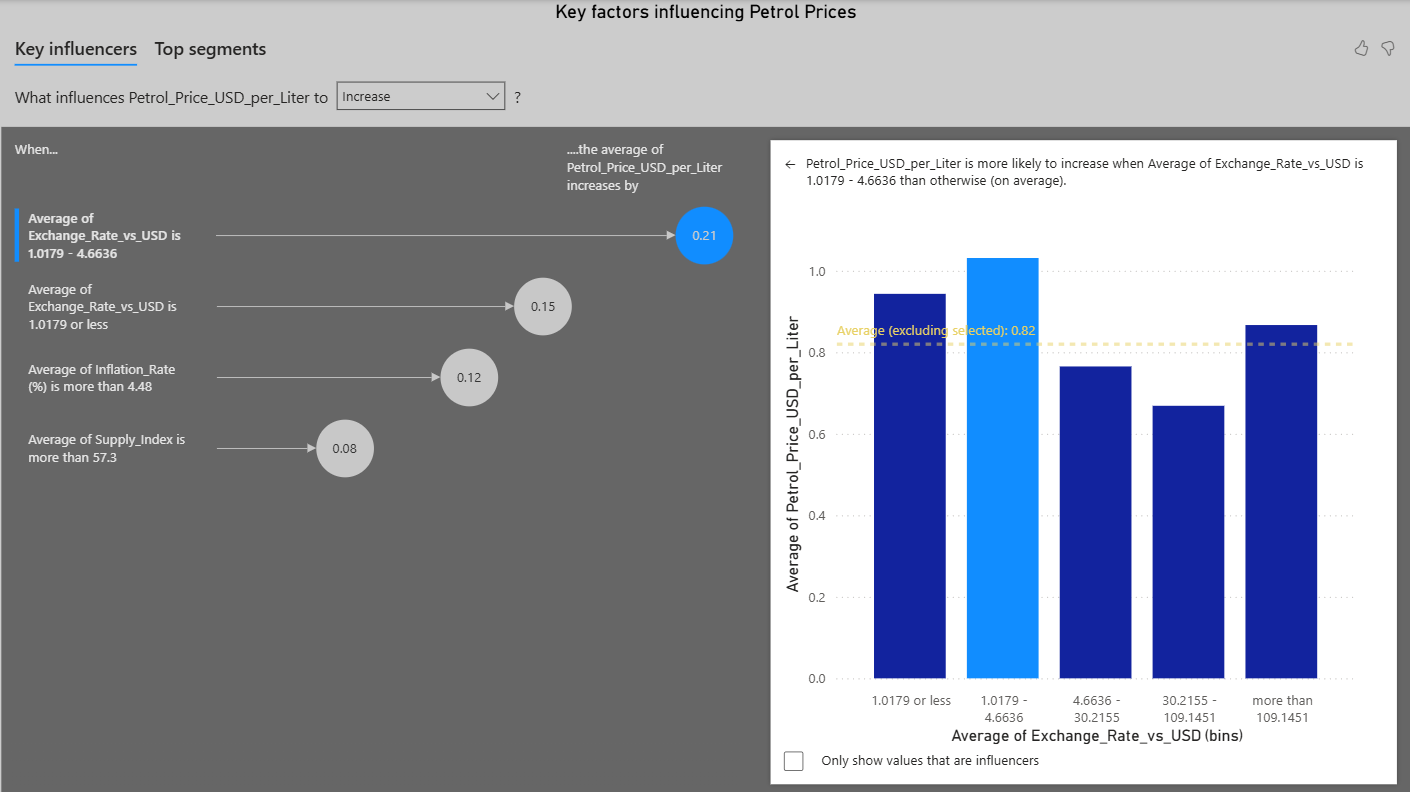

This screenshot's page, from the dashboard's own definition file:
{"tool":"powerbi","page":{"name":"Page 5","canvas":[1280,720],"ordinal":4},"visuals":[{"type":"keyDriversVisual","title":"Key factors influencing Petrol Prices","fields":{"Target":["price_metrics_table_v2.Petrol_Price_USD_per_Liter"],"ExplainBy":["Avg(price_metrics_table_v2.Currency_Devaluation (%))","Avg(price_metrics_table_v2.Exchange_Rate_vs_USD)","Avg(price_metrics_table_v2.GDP_Growth (%))","Avg(price_metrics_table_v2.Inflation_Rate (%))","Avg(price_metrics_table_v2.Supply_Index)","Avg(price_metrics_table_v2.Demand_Index)"]},"box":[0,0,1280,720.3],"z":0}]}

Visuals, with their boxes in screenshot pixels (x1, y1, x2, y2), scaled from the page's 1280x720 canvas onto the 1410x792 screenshot:
"Key factors influencing Petrol Prices" keyDriversVisual: (x1=0, y1=0, x2=1409, y2=791)
